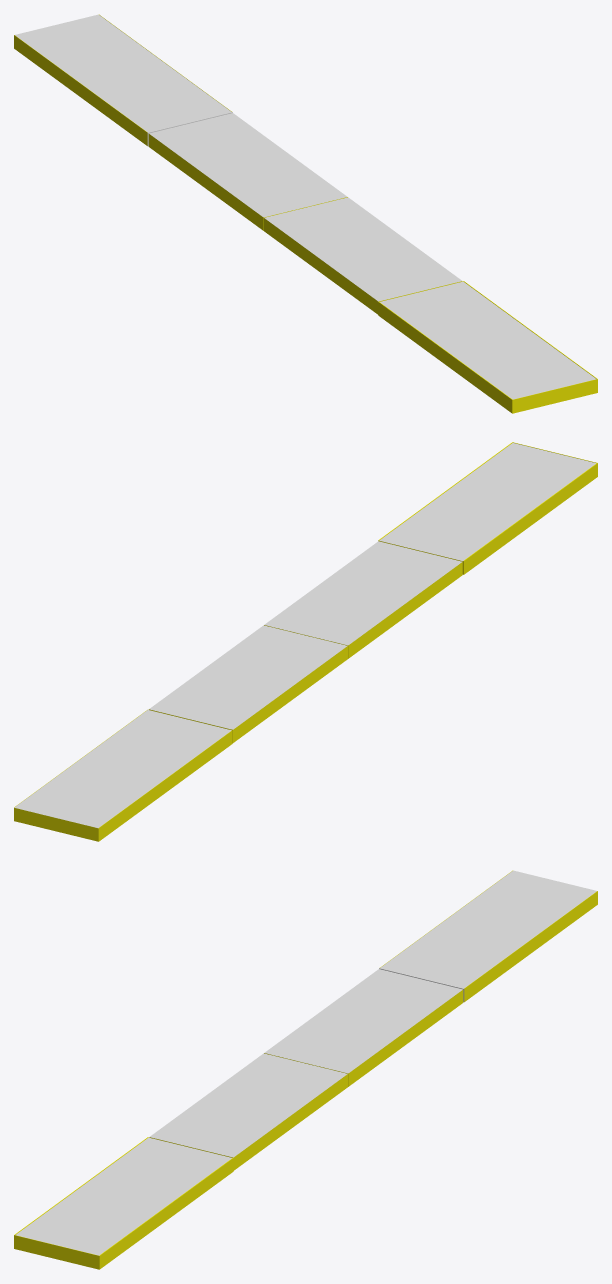
The model's file is 1stLevelSMB.fbx.
3 views of the same model, one above another, from view 1: azimuth 30°, elevation 25°; view 2: azimuth 150°, elevation 25°; view 3: azimuth 330°, elevation 25° (orthographic).
Parts seen in each view (by area): view 1: Cube.001, Cube.002, Cube.003; view 2: Cube.001, Cube.002, Cube.003; view 3: Cube.001, Cube.002, Cube.003.
Part boxes in pixels (box(x1,y1,x2,y2)): Cube.001: box(14, 14, 597, 413); Cube.002: box(148, 113, 347, 230); Cube.003: box(264, 197, 462, 314); Cube.001: box(14, 442, 597, 841); Cube.002: box(148, 625, 347, 742); Cube.003: box(264, 541, 462, 658); Cube.001: box(14, 870, 597, 1269); Cube.002: box(264, 969, 463, 1086); Cube.003: box(149, 1053, 347, 1170).
Bounding box in the file's own units: 406 × 4102 × 62.59.
